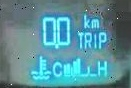-: (54, 41, 58, 48)
0: (41, 15, 56, 45), (56, 14, 70, 45)
X: (96, 59, 107, 77), (51, 59, 62, 77), (97, 30, 106, 49), (84, 31, 92, 48), (76, 30, 83, 48), (82, 12, 89, 27), (90, 17, 99, 26), (93, 31, 97, 50)
